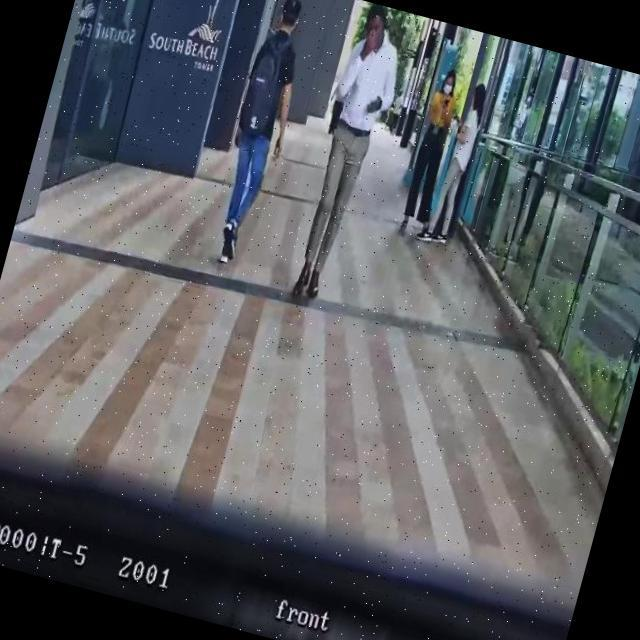person: (280, 0, 415, 310), (199, 0, 320, 272), (395, 65, 471, 239), (420, 78, 490, 248), (384, 91, 406, 135)
